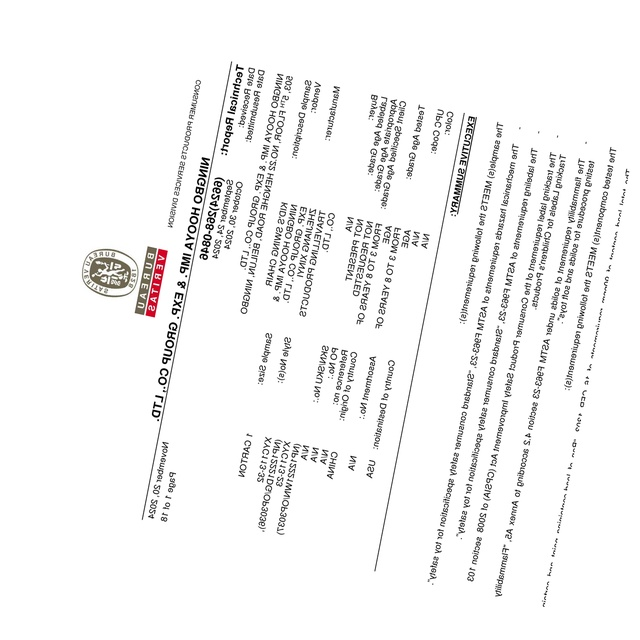bureau_veritas: (77, 241, 166, 321)
